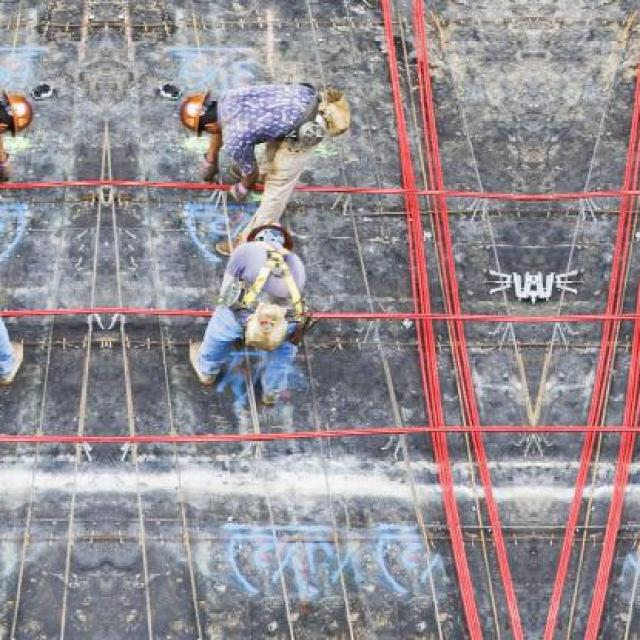helmet: (170, 90, 226, 141), (0, 89, 43, 142), (244, 220, 294, 254)
